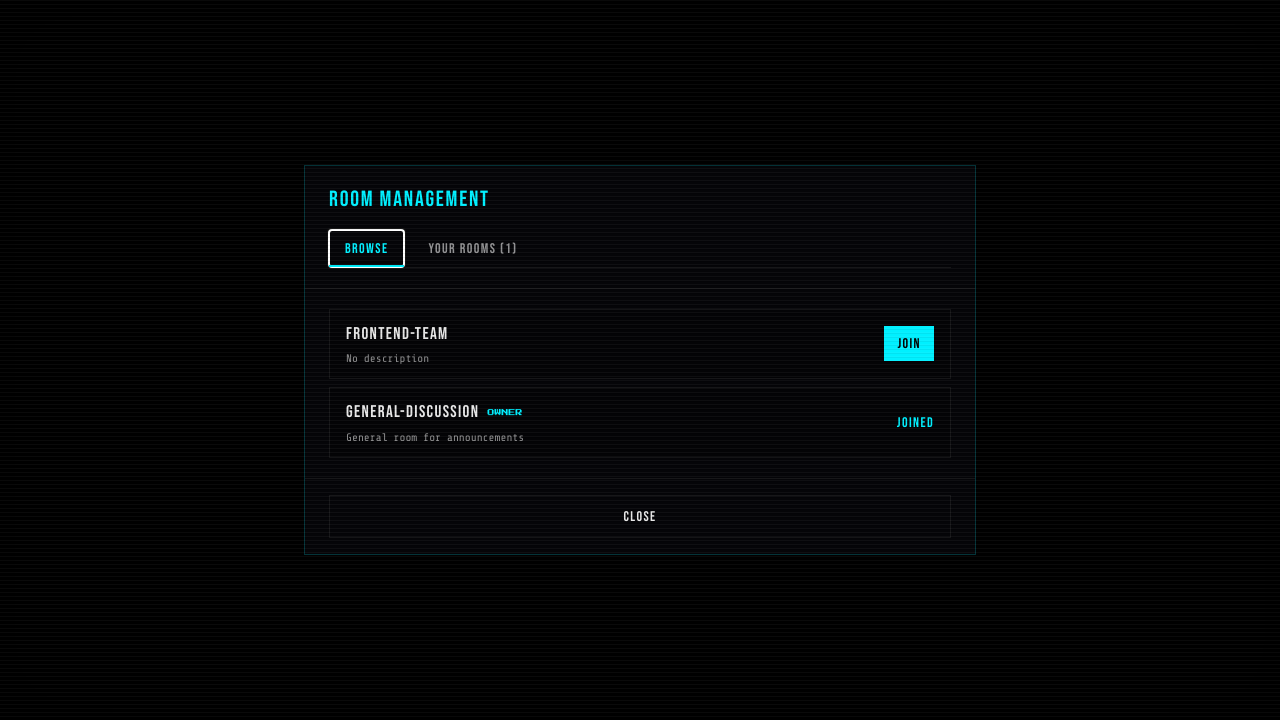
Test: RoomDiscoveryModal › shows join error and rolls back optimistic state
Check: the text "Frontend-Team" is shown, box 346,322 -> 449,347
Click the button "JOIN" at (909, 344), box 884,326 -> 934,361
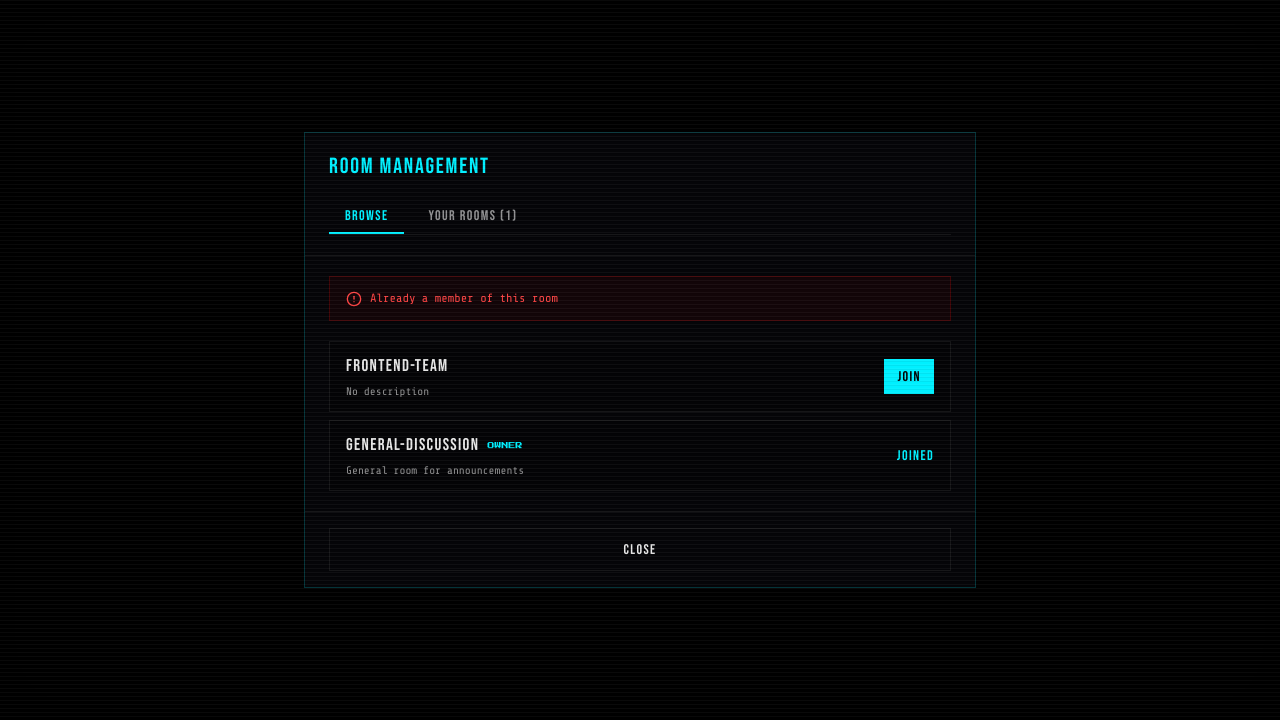
Check: the button "JOIN" is shown, box 884,359 -> 934,394
Check: the text "Already a member of this room" is shown, box 370,289 -> 558,308
